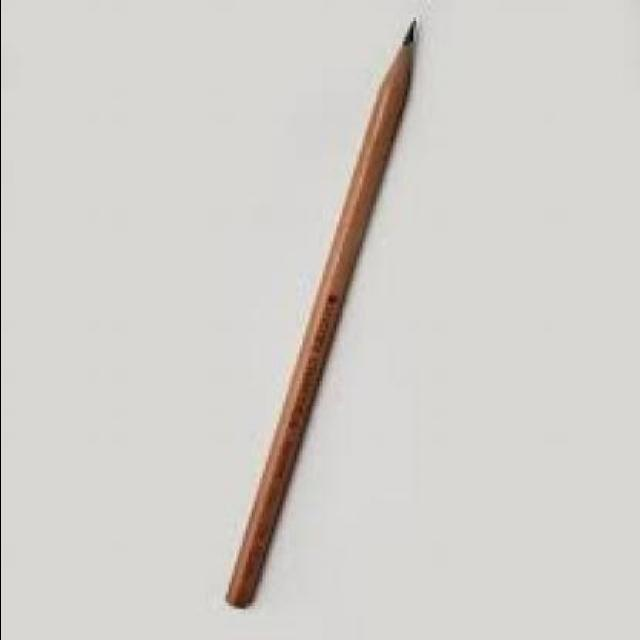Pencil: (368, 17, 432, 117)
